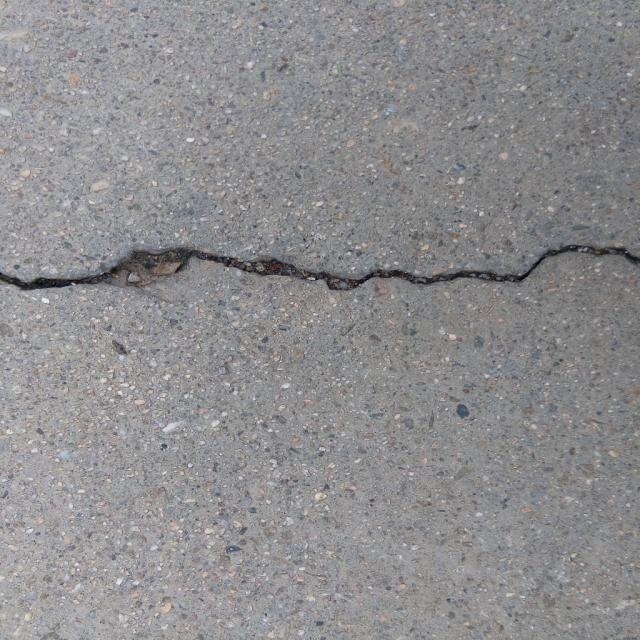cracks: (0, 220, 640, 312)
